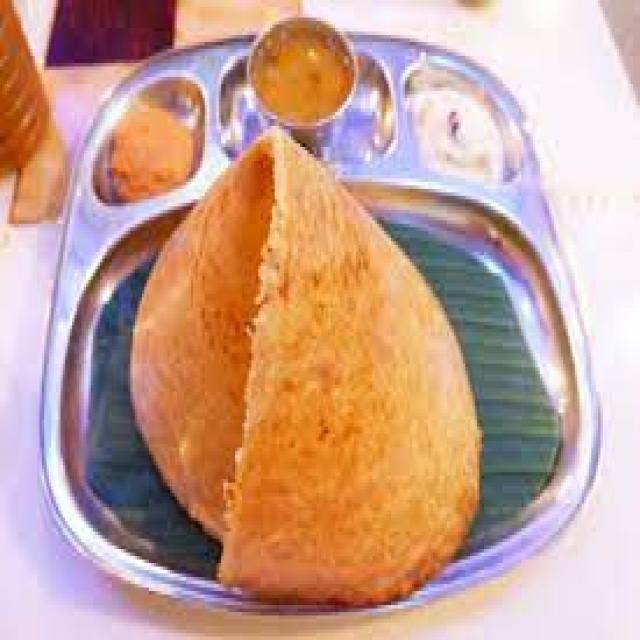Wet Waste: (110, 126, 487, 556), (407, 52, 510, 182)
